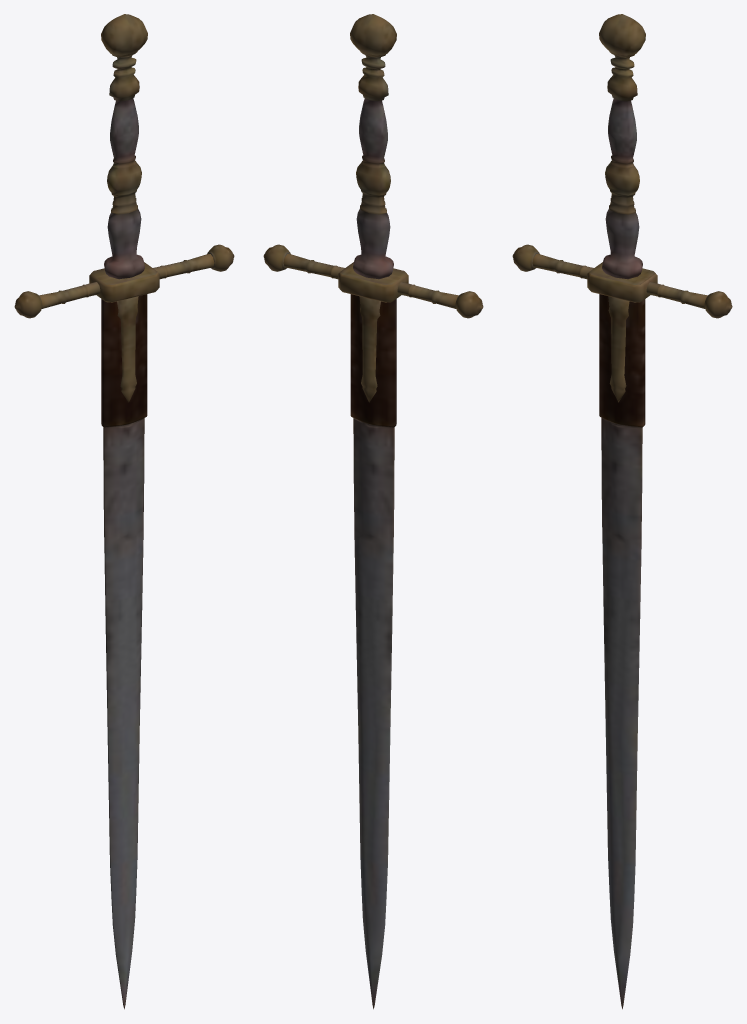
Rendered from weapon-wp_a_0607.glb.
3 renders of one model, left to right at view 1: azimuth 30°, elevation 25°; view 2: azimuth 150°, elevation 25°; view 3: azimuth 330°, elevation 25°, orthographic.
Parts seen in each view (by area): view 1: wp_a_0607_mesh; view 2: wp_a_0607_mesh; view 3: wp_a_0607_mesh.
Part boxes in pixels (left/top/right/bottom): wp_a_0607_mesh: left=14, top=14, right=234, bottom=1009; wp_a_0607_mesh: left=263, top=14, right=483, bottom=1009; wp_a_0607_mesh: left=512, top=14, right=732, bottom=1009.
Size of the model in its own units: 0.3545 by 1.55 by 0.0588.
Materials: 1 (1 with a texture image).
